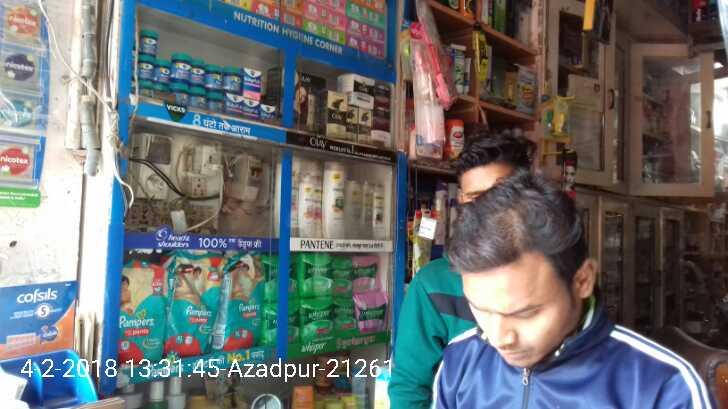vicks: (140, 28, 275, 123)
